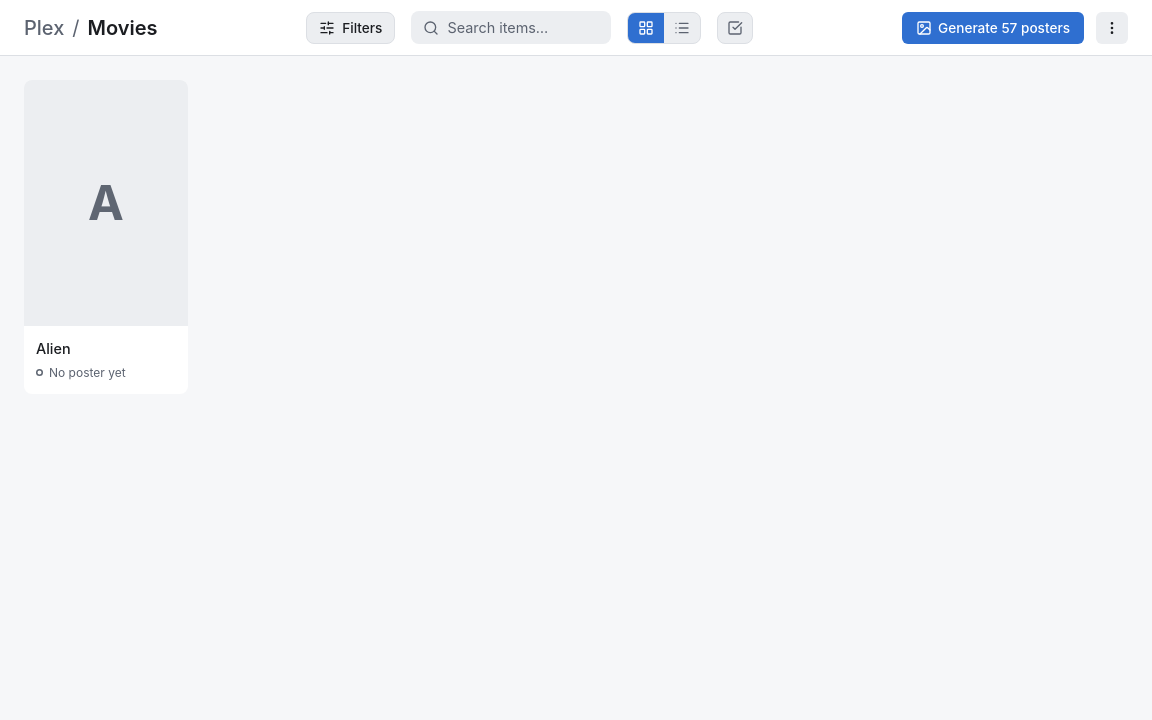
Test: LibraryPage — filter counts › labels each filter with the number of items behind it
This screenshot has width=1152, height=720.
Click the button "Filters".
click(351, 28)  # box x1=306 y1=12 x2=395 y2=44
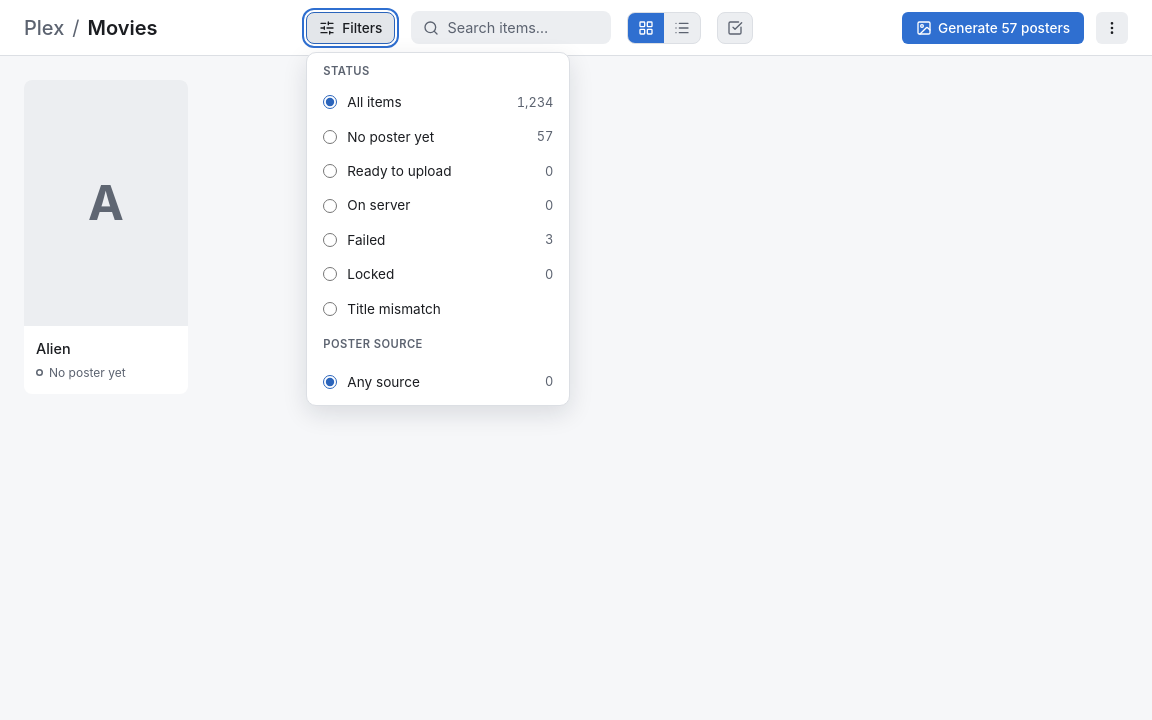
Expected: the radio button labelled "All items 1,234" is shown, x1=323 y1=96 x2=337 y2=110
Expected: the radio button labelled "No poster yet 57" is shown, x1=323 y1=130 x2=337 y2=144
Expected: the radio button labelled "Failed 3" is shown, x1=323 y1=233 x2=337 y2=247
